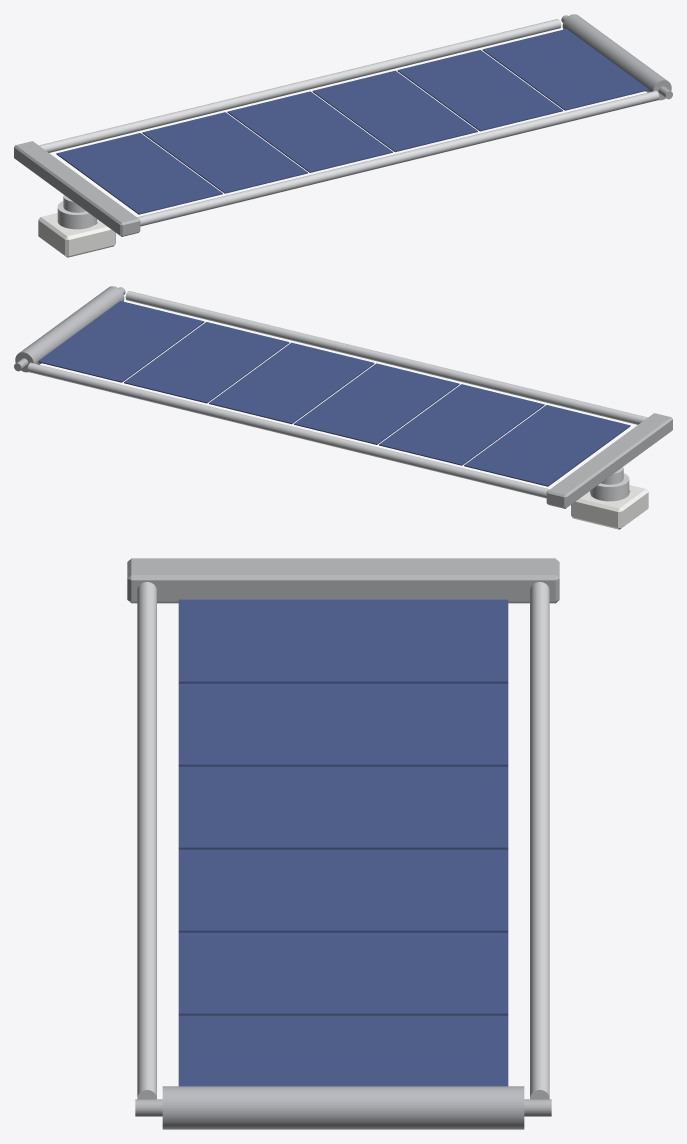
The model's file is ax_power_01_roll_out_array_s_deployed.glb.
The picture shows the model from 3 angles, top to bottom: view 1: azimuth 30°, elevation 25°; view 2: azimuth 150°, elevation 25°; view 3: azimuth 270°, elevation 25°; orthographic projection. The views are drawn at different scales.
Visible parts, largest first — view 1: panel_blanket, boom_1, boom_2, yoke, panel_roll, mount_block, gimbal; view 2: panel_blanket, boom_2, boom_1, yoke, panel_roll, mount_block, gimbal; view 3: panel_blanket, yoke, panel_roll, boom_1, boom_2.
Boxes of the visible parts, x1,y1,x2,y2 form: panel_blanket: [56, 29, 648, 214]; boom_1: [137, 90, 659, 226]; boom_2: [39, 19, 561, 152]; yoke: [14, 141, 140, 236]; panel_roll: [561, 14, 672, 100]; mount_block: [38, 213, 115, 257]; gimbal: [57, 195, 96, 229]; panel_blanket: [38, 301, 630, 486]; boom_2: [27, 362, 549, 498]; boom_1: [125, 291, 647, 424]; yoke: [546, 413, 672, 508]; panel_roll: [14, 286, 125, 372]; mount_block: [571, 485, 648, 529]; gimbal: [590, 467, 629, 501]; panel_blanket: [178, 599, 508, 1086]; yoke: [127, 558, 559, 603]; panel_roll: [135, 1086, 551, 1129]; boom_1: [137, 582, 156, 1099]; boom_2: [530, 582, 549, 1099].
Bounding box in the file's own units: 3.38 × 0.355 × 1.1.
